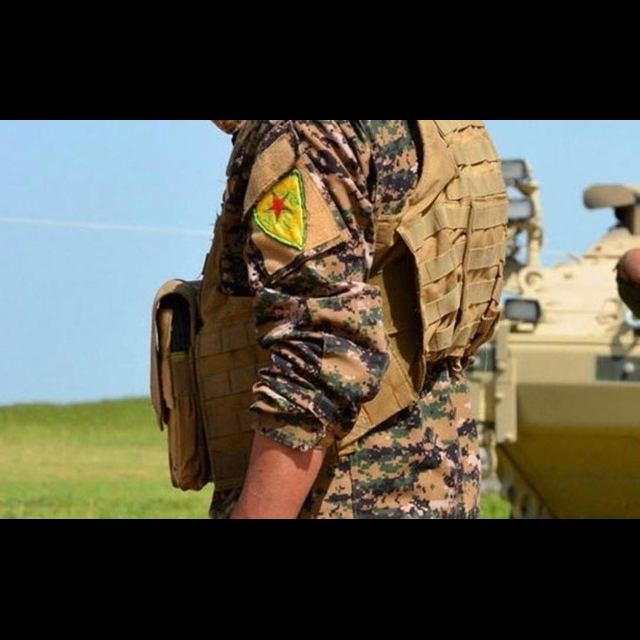YPG: (247, 171, 311, 250)
